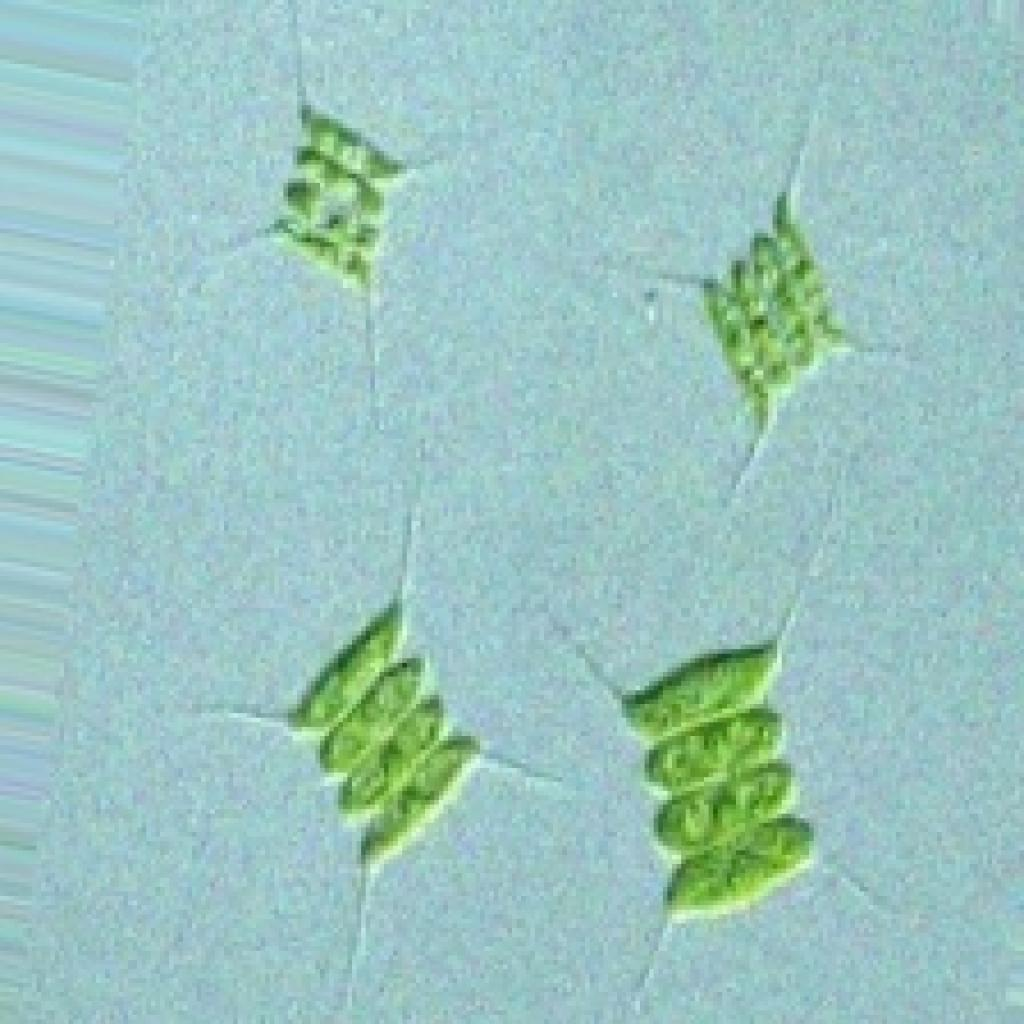Microalgae: (116, 563, 531, 926), (542, 587, 900, 960), (596, 166, 924, 478), (265, 101, 407, 297)
